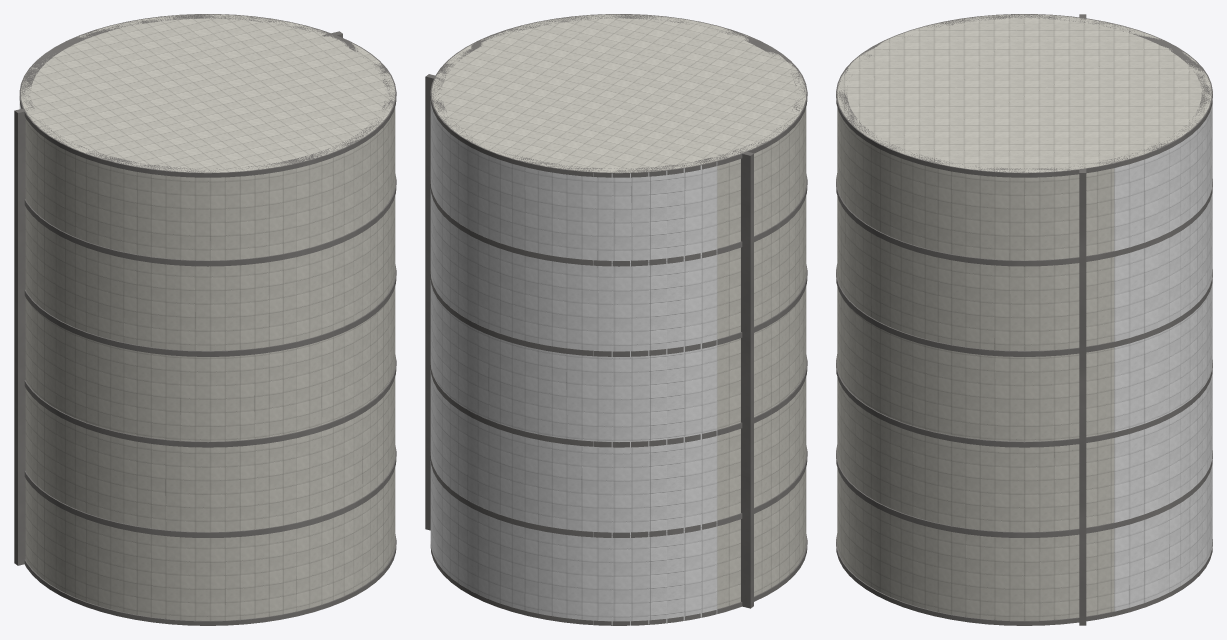
The model's file is aero02_mk3_fuselage_structural_500.glb.
The picture shows the model from 3 angles, left to right: view 1: azimuth 30°, elevation 25°; view 2: azimuth 150°, elevation 25°; view 3: azimuth 270°, elevation 25°; orthographic projection.
Parts seen in each view (by area): view 1: fuselage, ring_frames, end_frames, chines; view 2: belly_tiles, fuselage, ring_frames, chines, end_frames; view 3: fuselage, belly_tiles, ring_frames, end_frames, chines.
Boxes of the visible parts, x1=… form: fuselage: x1=20, y1=14, x2=395, y2=620; ring_frames: x1=24, y1=174, x2=396, y2=537; end_frames: x1=19, y1=14, x2=396, y2=625; chines: x1=14, y1=31, x2=342, y2=565; belly_tiles: x1=430, y1=101, x2=717, y2=625; fuselage: x1=431, y1=14, x2=806, y2=608; ring_frames: x1=430, y1=174, x2=807, y2=537; chines: x1=425, y1=74, x2=753, y2=608; end_frames: x1=430, y1=14, x2=807, y2=625; fuselage: x1=837, y1=14, x2=1211, y2=620; belly_tiles: x1=1114, y1=104, x2=1212, y2=611; ring_frames: x1=836, y1=173, x2=1212, y2=537; end_frames: x1=836, y1=14, x2=1212, y2=625; chines: x1=1079, y1=14, x2=1086, y2=625.
Bounding box in the file's own units: 3.77 × 5 × 3.77.
Materials: 3 (3 with a texture image).
